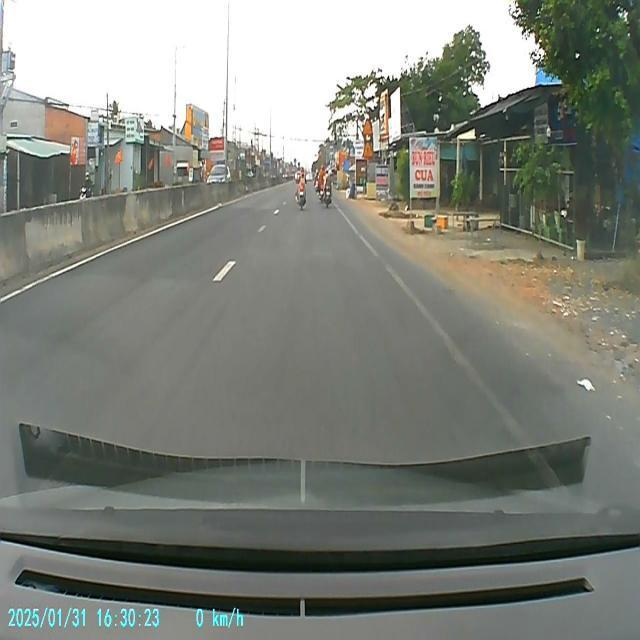224-duong-nguoi-di-bo-cat-ngang: (362, 141, 374, 160)
